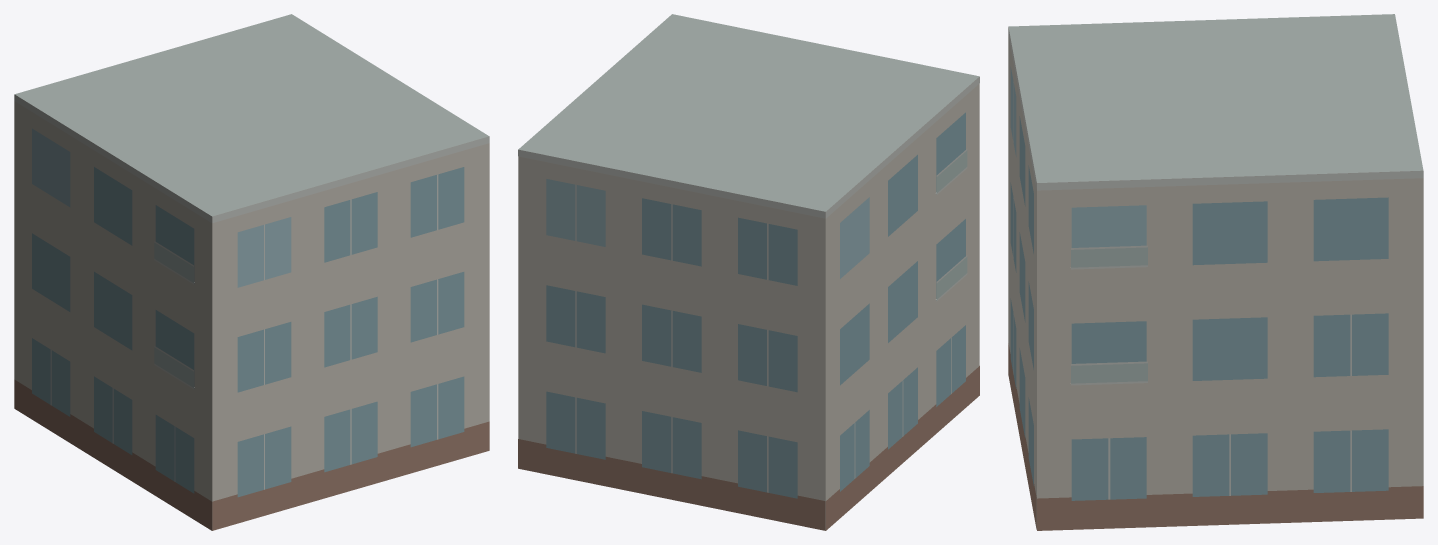
Rendered from survey-upis-32625742.glb.
3 views of the same model, side by side, from view 1: azimuth 30°, elevation 25°; view 2: azimuth 150°, elevation 25°; view 3: azimuth 270°, elevation 25° (orthographic). The views are drawn at different scales.
Visible parts, largest first — view 1: survey-upis-32625742.tmp; view 2: survey-upis-32625742.tmp; view 3: survey-upis-32625742.tmp.
Part boxes in pixels (bbox=[...]): survey-upis-32625742.tmp: bbox=[14, 14, 489, 530]; survey-upis-32625742.tmp: bbox=[518, 14, 979, 530]; survey-upis-32625742.tmp: bbox=[1008, 14, 1423, 530].
Size of the model in its own units: 11.79 by 11.3 by 12.24.
